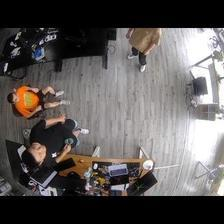normal: (21, 122, 87, 165), (7, 85, 70, 119), (123, 27, 161, 71)
